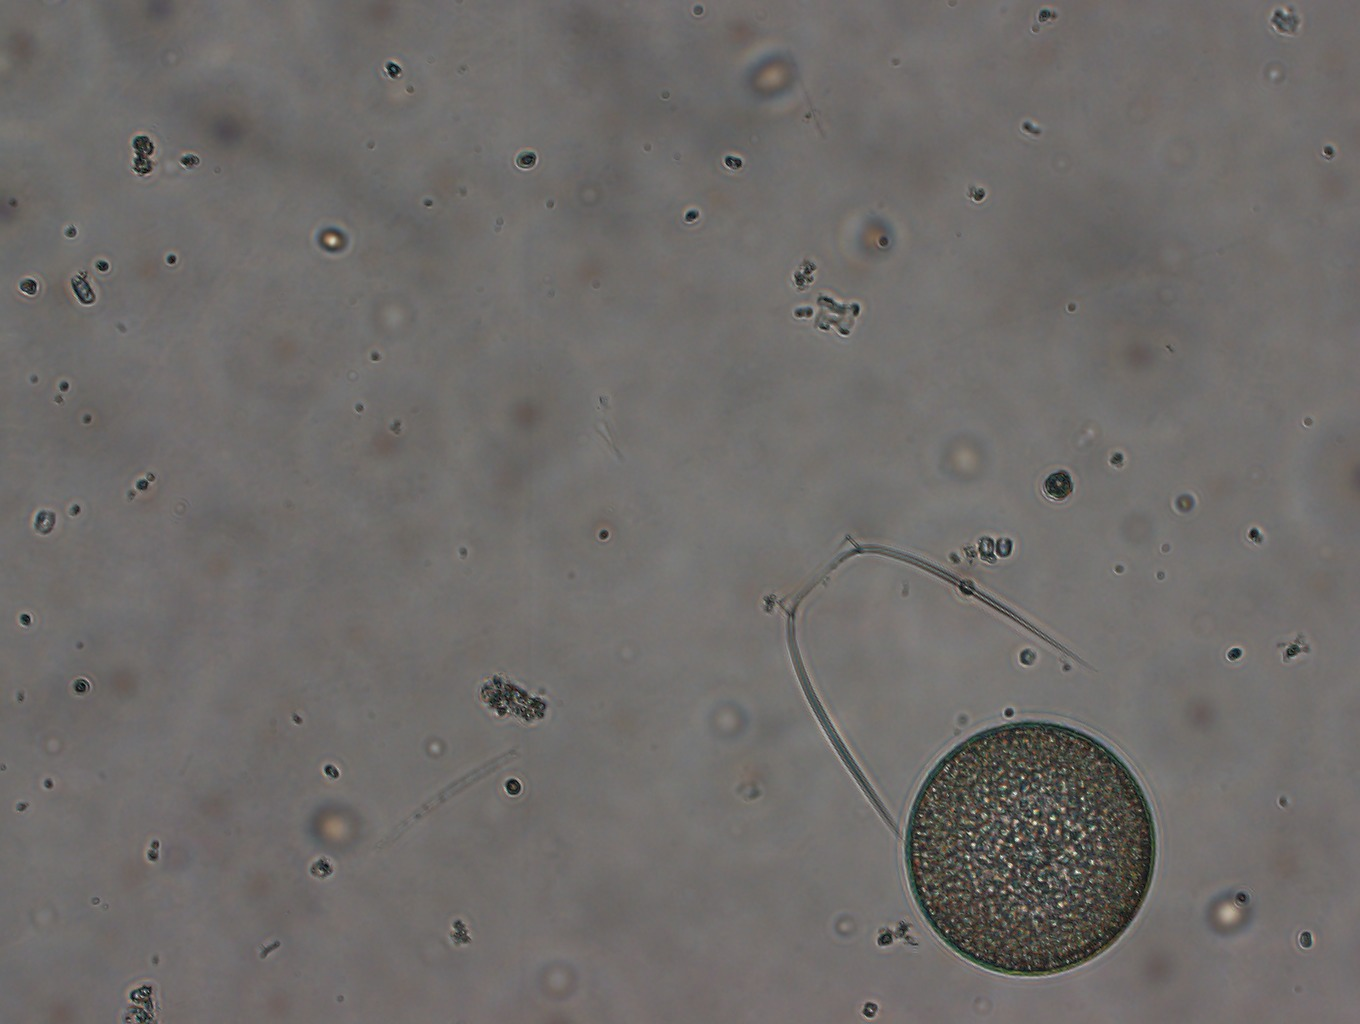chaetoceros: (761, 516, 1101, 842)
coscinodiscus: (898, 715, 1162, 984)
